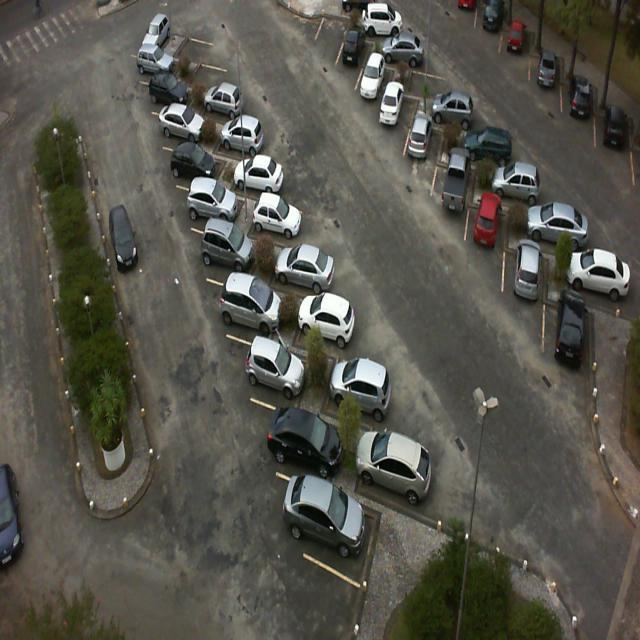space-empty: (315, 9, 352, 68), (410, 61, 458, 104), (175, 31, 220, 68), (192, 58, 237, 94)
space-occupied: (304, 468, 388, 582), (271, 390, 348, 479), (317, 353, 388, 431), (365, 425, 432, 507), (245, 326, 312, 406), (223, 270, 286, 343), (302, 288, 362, 358), (272, 235, 337, 297), (570, 260, 630, 322), (542, 303, 591, 374), (204, 224, 262, 281), (254, 192, 315, 246), (192, 176, 248, 234), (237, 148, 295, 200), (533, 205, 585, 263), (468, 198, 507, 272), (503, 241, 543, 312), (202, 78, 258, 127), (496, 165, 552, 214), (171, 139, 224, 188), (431, 163, 472, 225), (400, 122, 442, 182), (158, 101, 207, 151), (464, 124, 514, 170), (380, 92, 416, 152), (222, 117, 272, 160), (354, 63, 392, 116), (335, 40, 372, 94), (151, 75, 197, 116), (561, 75, 590, 136), (139, 46, 182, 87), (434, 94, 478, 134), (366, 11, 411, 48), (500, 30, 532, 79), (529, 50, 560, 100), (389, 38, 428, 74)
